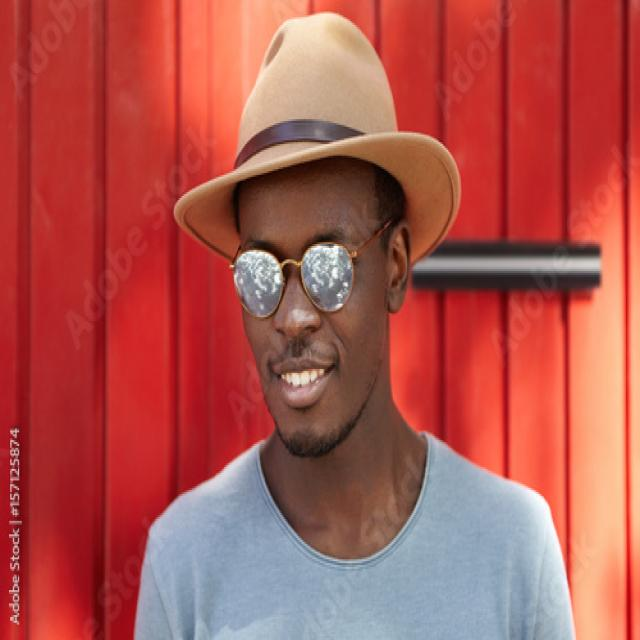hat: (182, 16, 453, 453)
